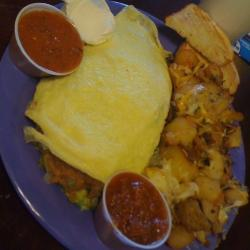ketchup: (87, 167, 176, 247), (9, 5, 86, 80)
omelette: (39, 11, 171, 187)
